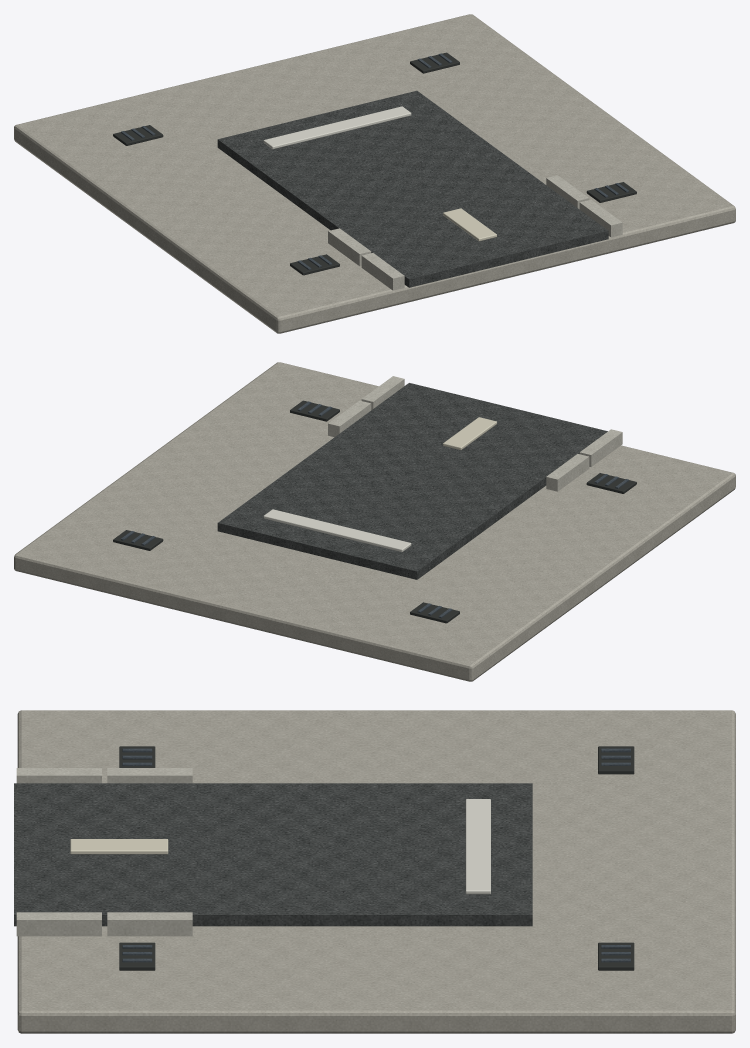
File: ROAD_LOCAL_1x1_END.glb
3 renders of one model, top to bottom at view 1: azimuth 30°, elevation 25°; view 2: azimuth 150°, elevation 25°; view 3: azimuth 270°, elevation 25°, orthographic. The views are drawn at different scales.
Visible parts, largest first — view 1: ROAD_LOCAL_1x1_END_Visual; view 2: ROAD_LOCAL_1x1_END_Visual; view 3: ROAD_LOCAL_1x1_END_Visual.
Part boxes in pixels (left/top/right/bottom): ROAD_LOCAL_1x1_END_Visual: left=14, top=14, right=735, bottom=333; ROAD_LOCAL_1x1_END_Visual: left=14, top=362, right=735, bottom=681; ROAD_LOCAL_1x1_END_Visual: left=14, top=710, right=735, bottom=1033.
Size of what is drawn, in the model's own units: 1.98 by 0.12 by 1.99.
Materials: 7 (4 with a texture image).
